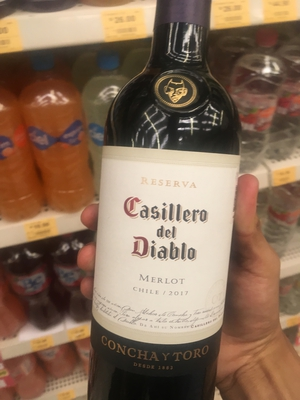casillero del diablo merlot: (86, 13, 244, 400)
